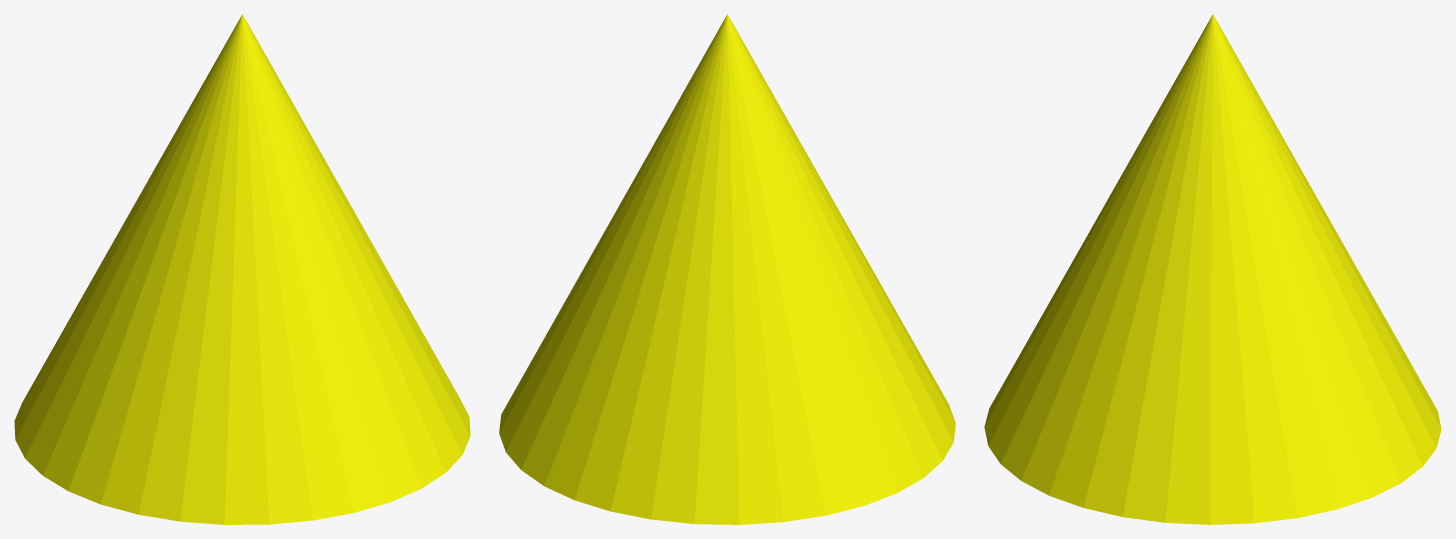
The model's file is Prisma Pentagonal.012.glb.
The picture shows the model from 3 angles, left to right: view 1: azimuth 30°, elevation 25°; view 2: azimuth 150°, elevation 25°; view 3: azimuth 270°, elevation 25°; orthographic projection.
Parts seen in each view (by area): view 1: Prisma Pentagonal.012; view 2: Prisma Pentagonal.012; view 3: Prisma Pentagonal.012.
Boxes of the visible parts, x1=… form: Prisma Pentagonal.012: x1=14, y1=14, x2=470, y2=524; Prisma Pentagonal.012: x1=499, y1=14, x2=955, y2=524; Prisma Pentagonal.012: x1=984, y1=14, x2=1441, y2=524.
Size of the model in its own units: 2 by 2 by 2.
